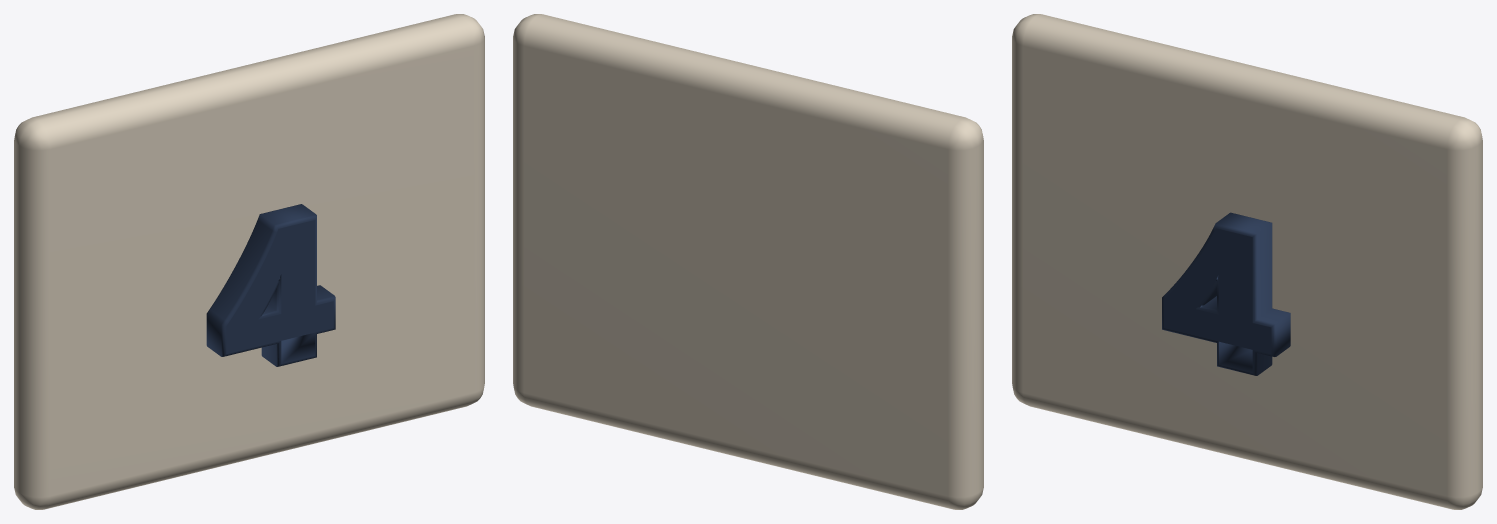
Rendered from BufferTag4.fbx.
3 renders of one model, left to right at view 1: azimuth 30°, elevation 25°; view 2: azimuth 150°, elevation 25°; view 3: azimuth 330°, elevation 25°, orthographic.
Parts seen in each view (by area): view 1: BufferTag4 mesh; view 2: BufferTag4 mesh; view 3: BufferTag4 mesh.
Boxes of the visible parts, box(x1,y1,x2,y2) form: BufferTag4 mesh: box(14, 14, 484, 509); BufferTag4 mesh: box(513, 14, 983, 509); BufferTag4 mesh: box(1012, 14, 1482, 509).
Size of the model in its own units: 0.15 by 0.12 by 0.024.
